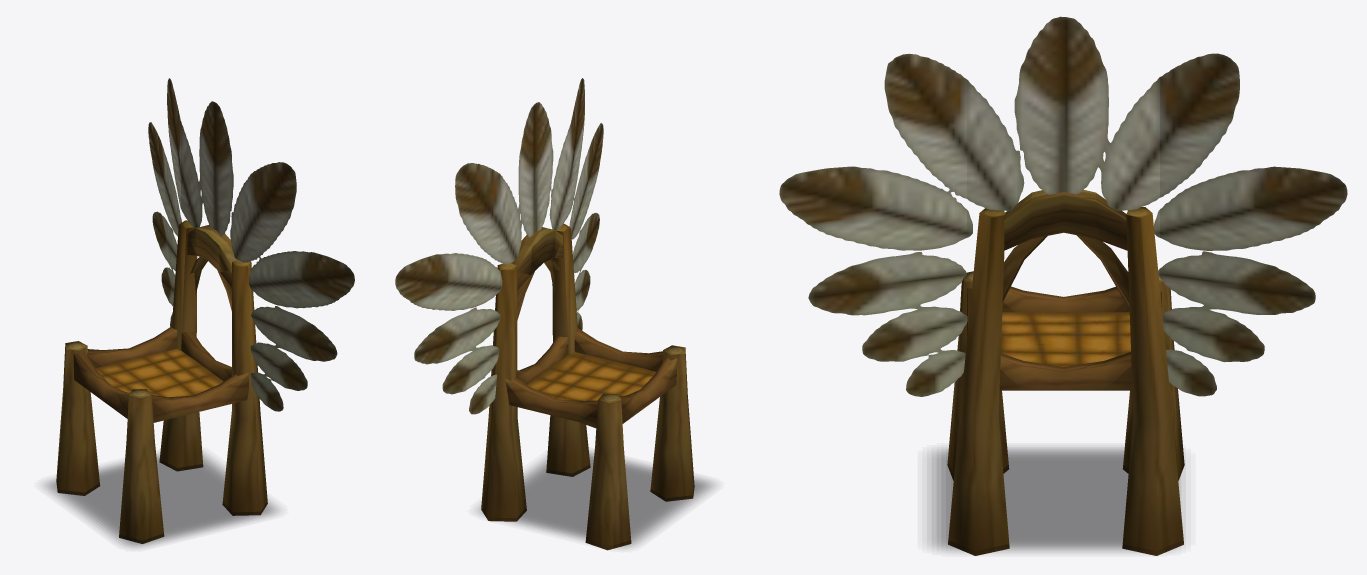
File: West_nativeChair.glb
3 renders of one model, left to right at view 1: azimuth 30°, elevation 25°; view 2: azimuth 150°, elevation 25°; view 3: azimuth 270°, elevation 25°, orthographic. The views are drawn at different scales.
Visible parts, largest first — view 1: Headdress1, cabinetRwoodShadow, RightLegLong, Headdress2, RightLegShort, RightLegShort1, RightLegLong1, Headdress3, SeatCushion, RightSeat, Backing, FrontSeat (+2 smaller); view 2: Headdress3, cabinetRwoodShadow, RightLegLong1, Headdress2, RightLegShort1, RightLegShort, RightLegLong, Headdress1, SeatCushion, LeftSeat, Backing, FrontSeat (+2 smaller); view 3: Headdress1, Headdress3, Headdress2, cabinetRwoodShadow, RightLegLong1, RightLegLong, SeatCushion, Backing, RearSeat, FrontSeat, RightLegShort, RightLegShort1 (+2 smaller).
Boxes of the visible parts, box(x1,y1,x2,y2) form: Headdress1: box(251, 162, 354, 411); cabinetRwoodShadow: box(44, 453, 278, 547); RightLegLong: box(222, 260, 267, 515); Headdress2: box(181, 101, 250, 349); RightLegShort: box(119, 389, 164, 543); RightLegShort1: box(56, 341, 99, 495); RightLegLong1: box(159, 220, 203, 471); Headdress3: box(148, 78, 180, 326); SeatCushion: box(96, 348, 223, 397); RightSeat: box(152, 372, 248, 422); Backing: box(187, 225, 237, 286); FrontSeat: box(73, 351, 129, 418); Headdress3: box(395, 163, 499, 414); cabinetRwoodShadow: box(478, 450, 714, 548); RightLegLong1: box(481, 263, 526, 521); Headdress2: box(500, 102, 570, 319); RightLegShort1: box(585, 393, 631, 550); RightLegShort: box(650, 345, 694, 501); RightLegLong: box(546, 223, 590, 476); Headdress1: box(570, 78, 603, 330); SeatCushion: box(527, 352, 656, 400); LeftSeat: box(505, 377, 597, 428); Backing: box(511, 227, 563, 290); FrontSeat: box(619, 357, 677, 423); Headdress1: box(779, 53, 966, 396); Headdress3: box(1160, 53, 1347, 396); Headdress2: box(967, 16, 1159, 321); cabinetRwoodShadow: box(927, 447, 1181, 551); RightLegLong1: box(1122, 207, 1183, 555); RightLegLong: box(948, 208, 1009, 555); SeatCushion: box(1001, 312, 1130, 367); Backing: box(1004, 189, 1127, 250); RearSeat: box(999, 352, 1132, 390); FrontSeat: box(1002, 286, 1129, 312); RightLegShort: box(947, 271, 1008, 480); RightLegShort1: box(1123, 276, 1184, 480).
Size of the model in its own units: 3 by 5.8 by 5.75.
Materials: 4 (4 with a texture image).
